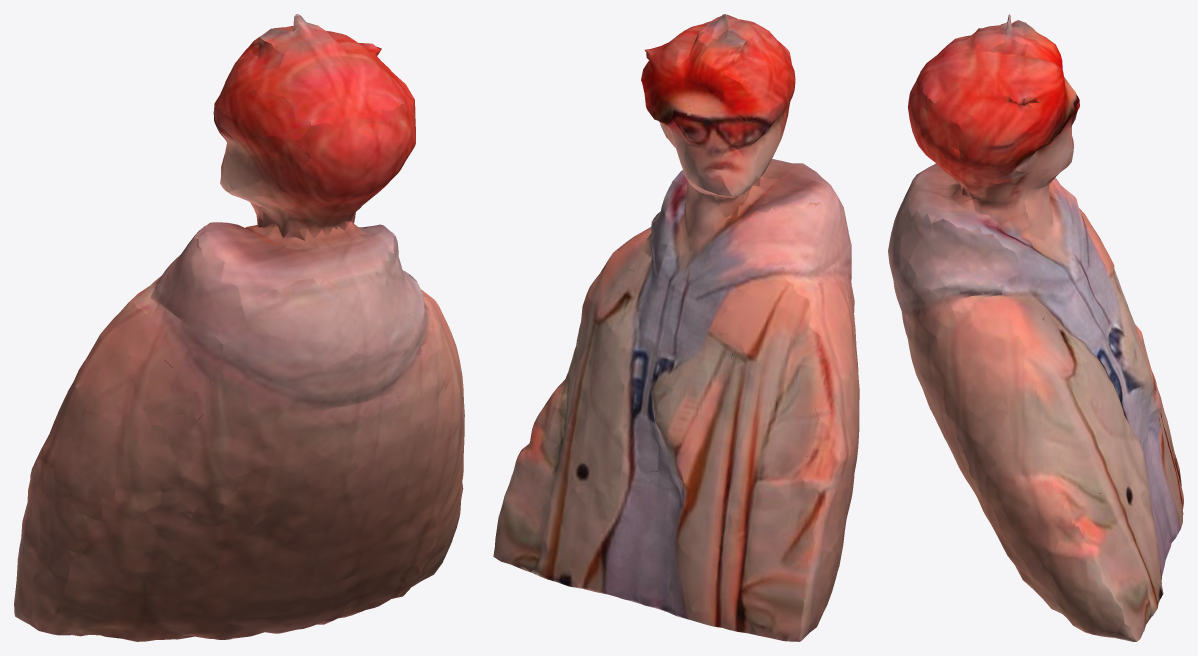
3 renders of one model, left to right at view 1: azimuth 30°, elevation 25°; view 2: azimuth 150°, elevation 25°; view 3: azimuth 270°, elevation 25°, orthographic. The views are drawn at different scales.
Visible parts, largest first — view 1: world; view 2: world; view 3: world.
Part boxes in pixels (x1,y1,x2,y2): world: (14,14,464,641); world: (493,14,859,641); world: (888,14,1183,641).
Size of the model in its own units: 0.6092 by 0.9314 by 0.4546.
Materials: 1 (1 with a texture image).
